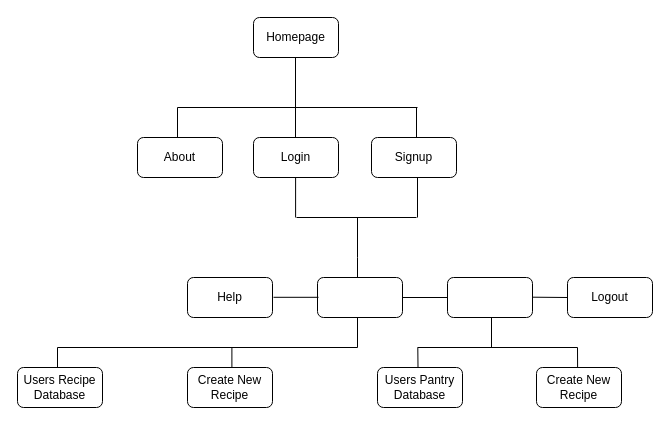
The diagram is 670 pixels wide and 425 high, and some of its shapes have lost their labels. The shapes that lost their labels are listed below. From the top down, each one's centre as x and y in pixels, then its label:
point (359, 297): Recipes
point (489, 297): Pantry
